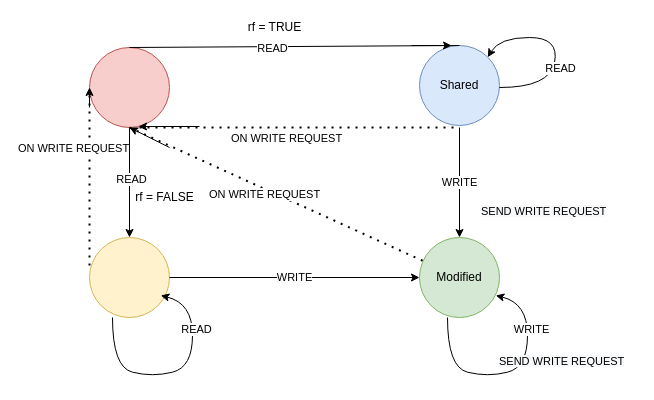
Some shapes in this 654 by 400 pixel diagram are drawn without their labels. Each missing label, with the centre of its shape:
Exclusive: the point at 129,277
Unused: the point at 129,87
